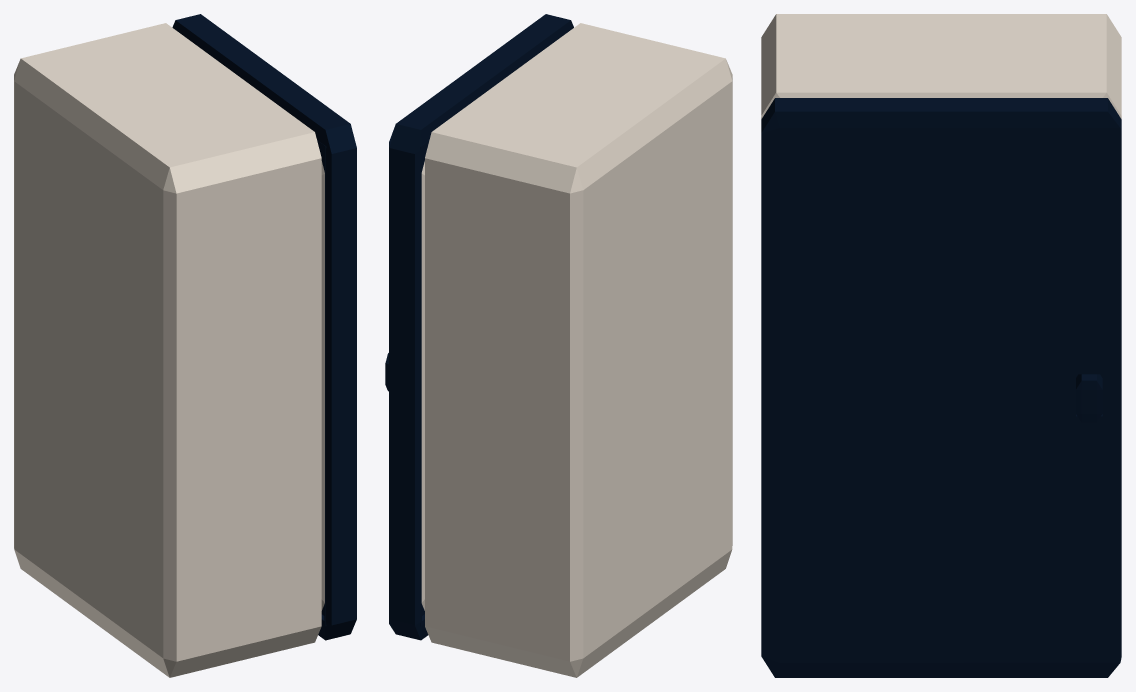
File: Fridge.fbx
3 renders of one model, left to right at view 1: azimuth 30°, elevation 25°; view 2: azimuth 150°, elevation 25°; view 3: azimuth 270°, elevation 25°, orthographic. The views are drawn at different scales.
Visible parts, largest first — view 1: Fridge, Door; view 2: Fridge, Door; view 3: Door, Fridge.
Part boxes in pixels (x1,y1,x2,y2): Fridge: (14, 23, 324, 677); Door: (172, 14, 356, 640); Fridge: (421, 23, 732, 677); Door: (385, 14, 573, 640); Door: (761, 98, 1121, 677); Fridge: (761, 14, 1121, 118).
Size of the model in its own units: 142 by 347 by 200.
